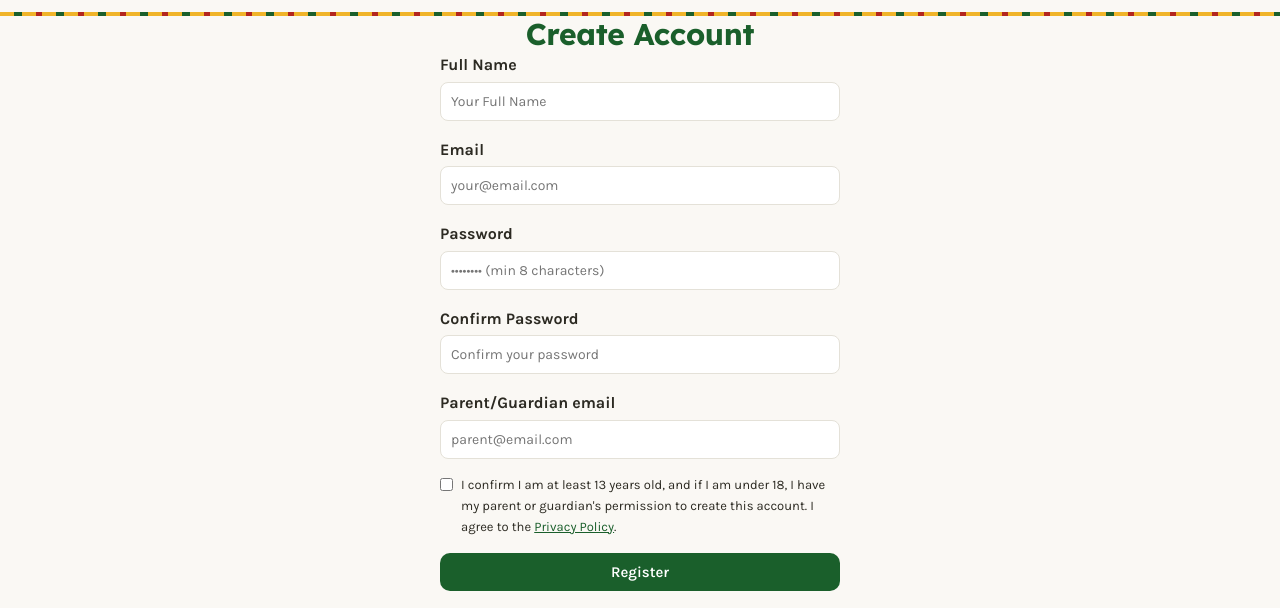
Test: Register › submits with the persisted country and shows success on a valid registration
The width and height of the screenshot is (1280, 608).
In the field labelled "Full Name": [640, 101] box [440, 82, 840, 121], type "Test Student"
In the field labelled "Email": [640, 186] box [440, 166, 840, 205], type "student@test.com"
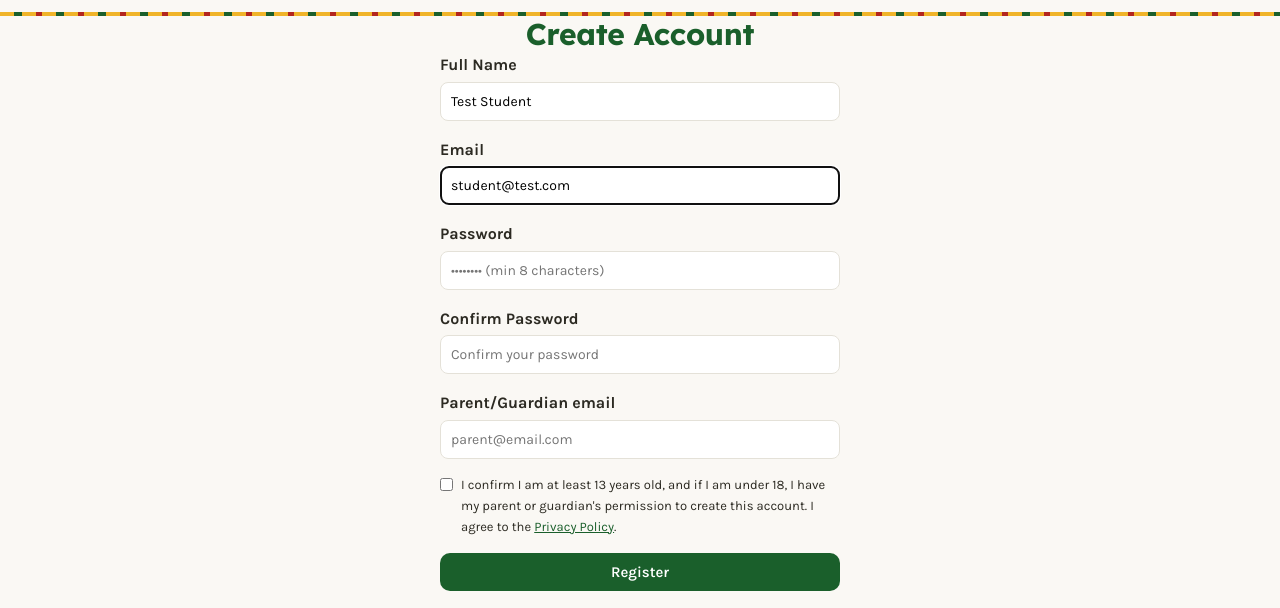
In the password field labelled "Password": [640, 270] box [440, 251, 840, 290], type "password123"
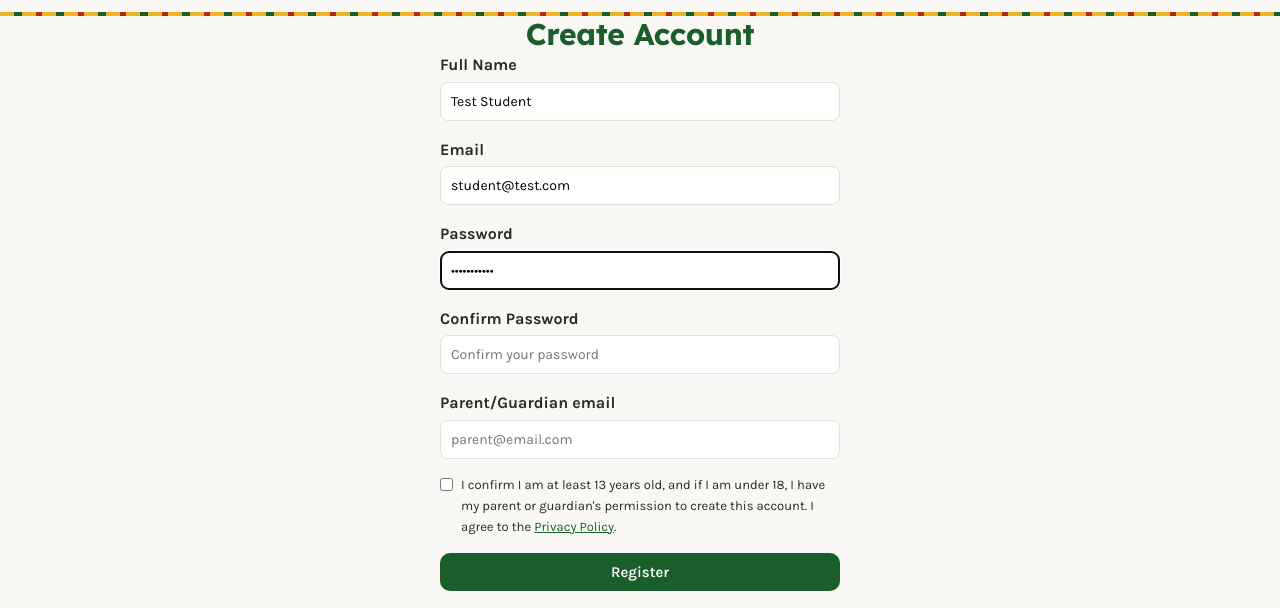
In the password field labelled "Confirm Password": [640, 355] box [440, 335, 840, 374], type "password123"
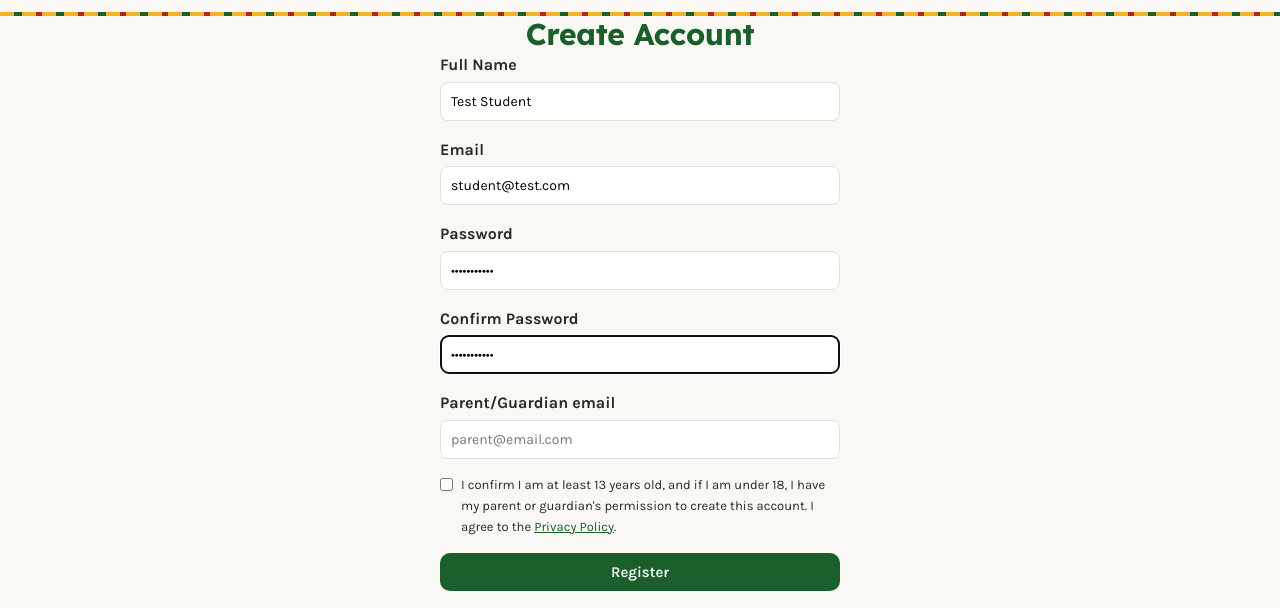
In the field labelled "Parent/Guardian email": [640, 440] box [440, 420, 840, 459], type "guardian@test.com"
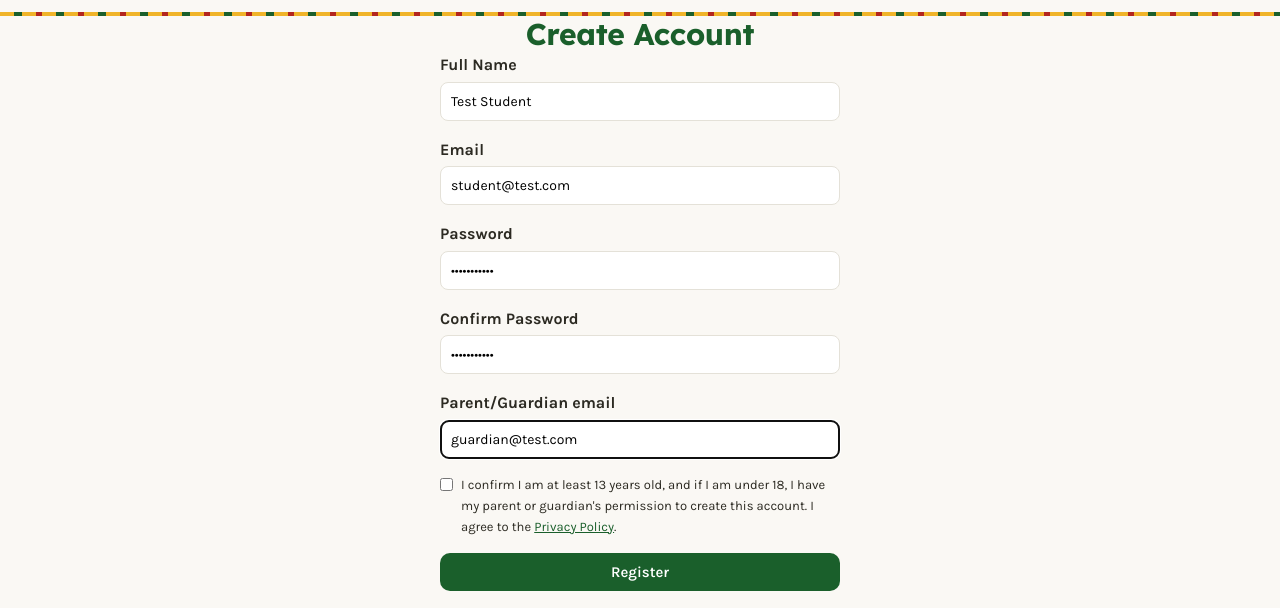
Click the checkbox: [446, 484] box [440, 478, 453, 491]
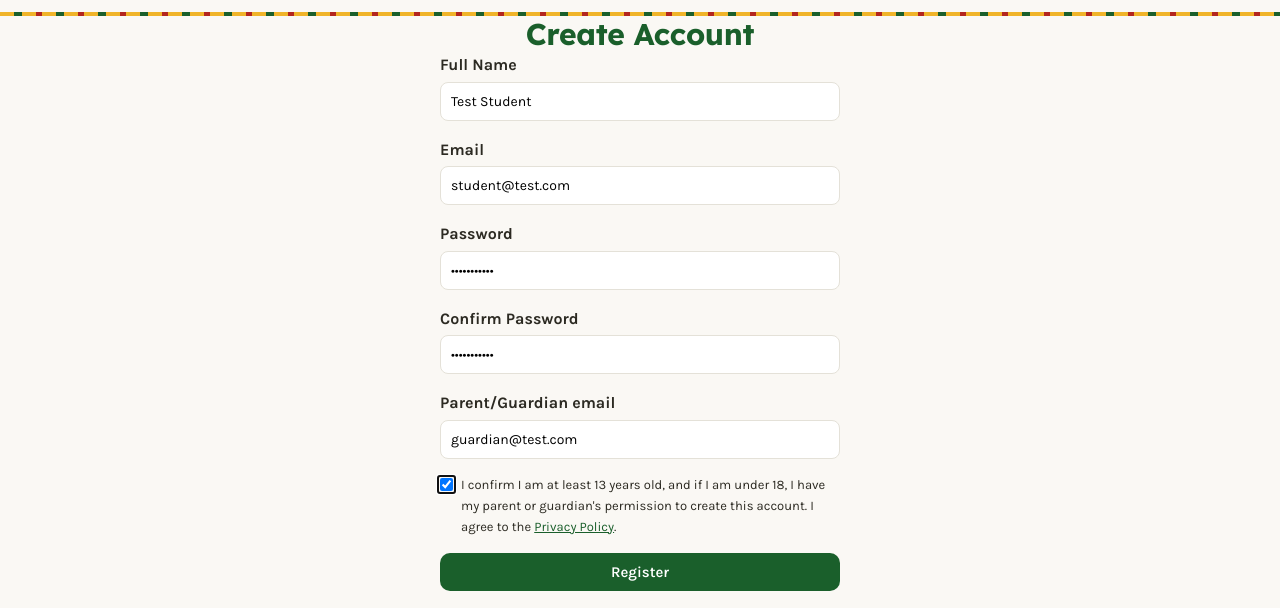
Click the button "Register": [640, 572] box [440, 553, 840, 591]
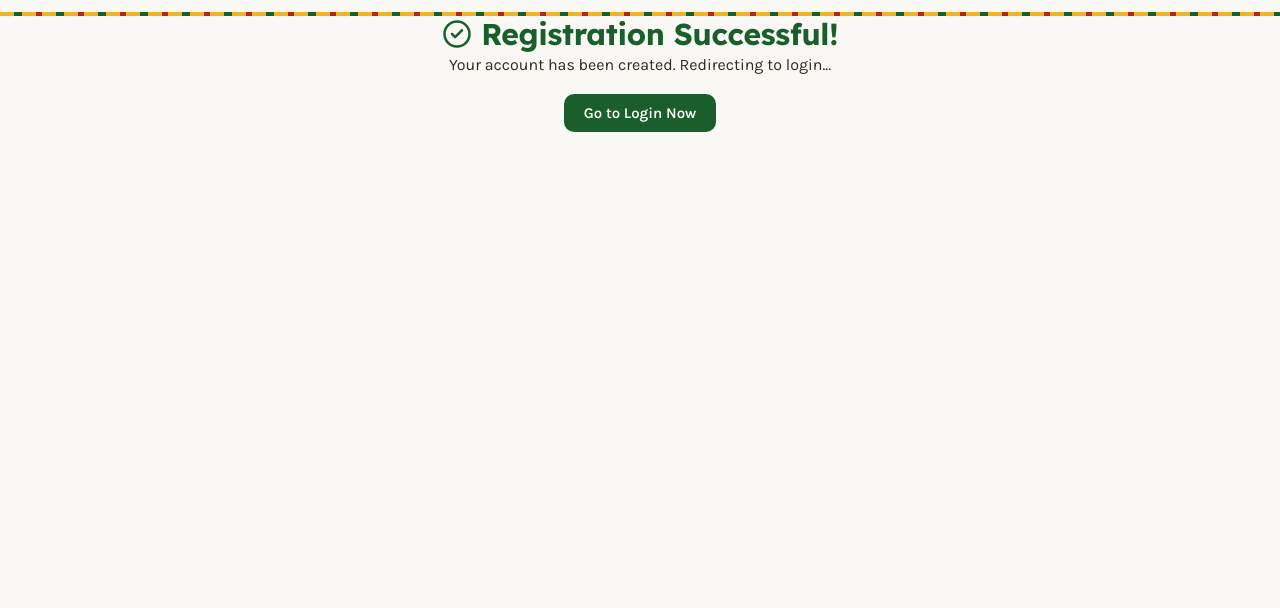
expect the heading "Registration Successful!" is shown: met, box [440, 16, 840, 52]
